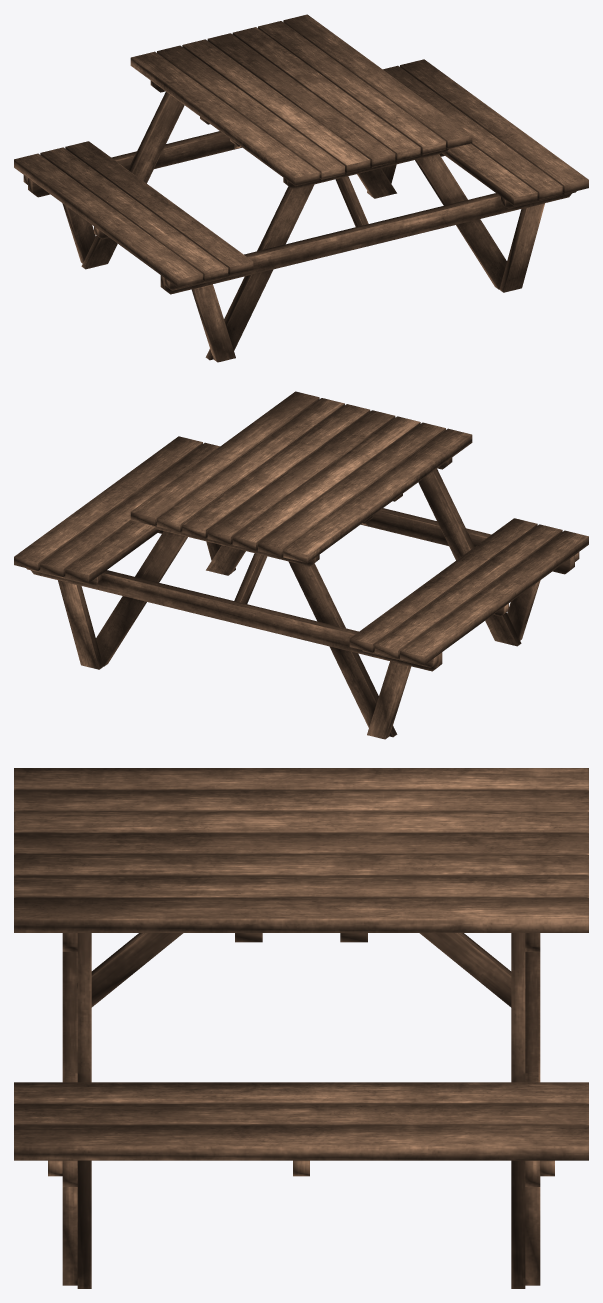
Rendered from Picnic_Table.glb.
3 renders of one model, top to bottom at view 1: azimuth 30°, elevation 25°; view 2: azimuth 150°, elevation 25°; view 3: azimuth 270°, elevation 25°, orthographic. The views are drawn at different scales.
Visible parts, largest first — view 1: picnic_table_01.001, picnic_table_01.005, picnic_table_01, picnic_table_01.006, picnic_table_01.002, picnic_table_01.004; view 2: picnic_table_01.001, picnic_table_01.005, picnic_table_01, picnic_table_01.006, picnic_table_01.002, picnic_table_01.004; view 3: picnic_table_01.001, picnic_table_01.005, picnic_table_01.004, picnic_table_01, picnic_table_01.006, picnic_table_01.002.
Part boxes in pixels (left/top/right/bottom): picnic_table_01.001: left=14, top=14, right=588, bottom=287; picnic_table_01.005: left=81, top=92, right=506, bottom=360; picnic_table_01: left=28, top=131, right=571, bottom=294; picnic_table_01.006: left=62, top=164, right=544, bottom=362; picnic_table_01.002: left=23, top=80, right=576, bottom=290; picnic_table_01.004: left=234, top=144, right=368, bottom=226; picnic_table_01.001: left=14, top=391, right=588, bottom=664; picnic_table_01.005: left=96, top=469, right=521, bottom=737; picnic_table_01: left=31, top=508, right=574, bottom=671; picnic_table_01.006: left=58, top=541, right=540, bottom=739; picnic_table_01.002: left=26, top=457, right=579, bottom=667; picnic_table_01.004: left=234, top=521, right=368, bottom=603; picnic_table_01.001: left=14, top=768, right=588, bottom=1160; picnic_table_01.005: left=77, top=933, right=525, bottom=1288; picnic_table_01.004: left=77, top=933, right=525, bottom=1007; picnic_table_01: left=62, top=951, right=540, bottom=1186; picnic_table_01.006: left=62, top=1187, right=540, bottom=1285; picnic_table_01.002: left=48, top=933, right=554, bottom=1176.
Bounding box in the file's own units: 1.73 × 0.72 × 1.2.
Materials: 1 (1 with a texture image).
